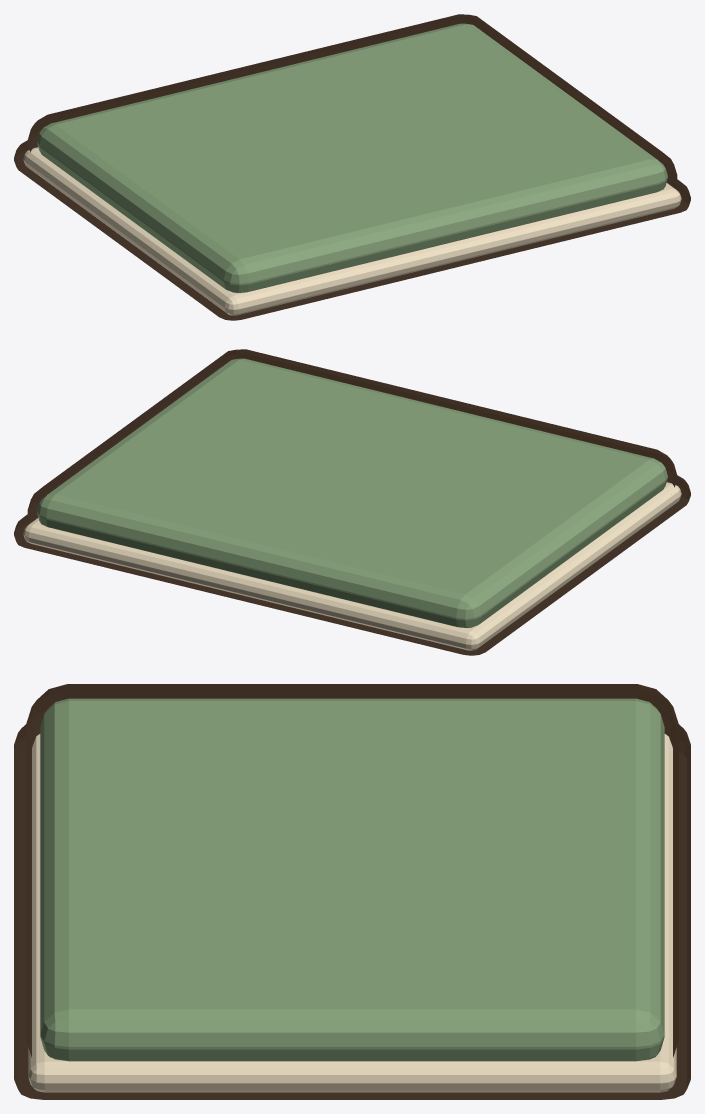
File: botanic-pillow.glb
The picture shows the model from 3 angles, top to bottom: view 1: azimuth 30°, elevation 25°; view 2: azimuth 150°, elevation 25°; view 3: azimuth 270°, elevation 25°; orthographic projection. The views are drawn at different scales.
Parts seen in each view (by area): view 1: botanic-pillow, botanic-pillow-outline; view 2: botanic-pillow, botanic-pillow-outline; view 3: botanic-pillow, botanic-pillow-outline.
Part boxes in pixels (<box>): botanic-pillow: <box>23,23,681,315</box>; botanic-pillow-outline: <box>14,14,690,320</box>; botanic-pillow: <box>23,358,681,650</box>; botanic-pillow-outline: <box>14,349,690,655</box>; botanic-pillow: <box>28,698,676,1092</box>; botanic-pillow-outline: <box>14,684,690,1099</box>.
Bounding box in the file's own units: 1.04 × 0.1157 × 0.8354.
